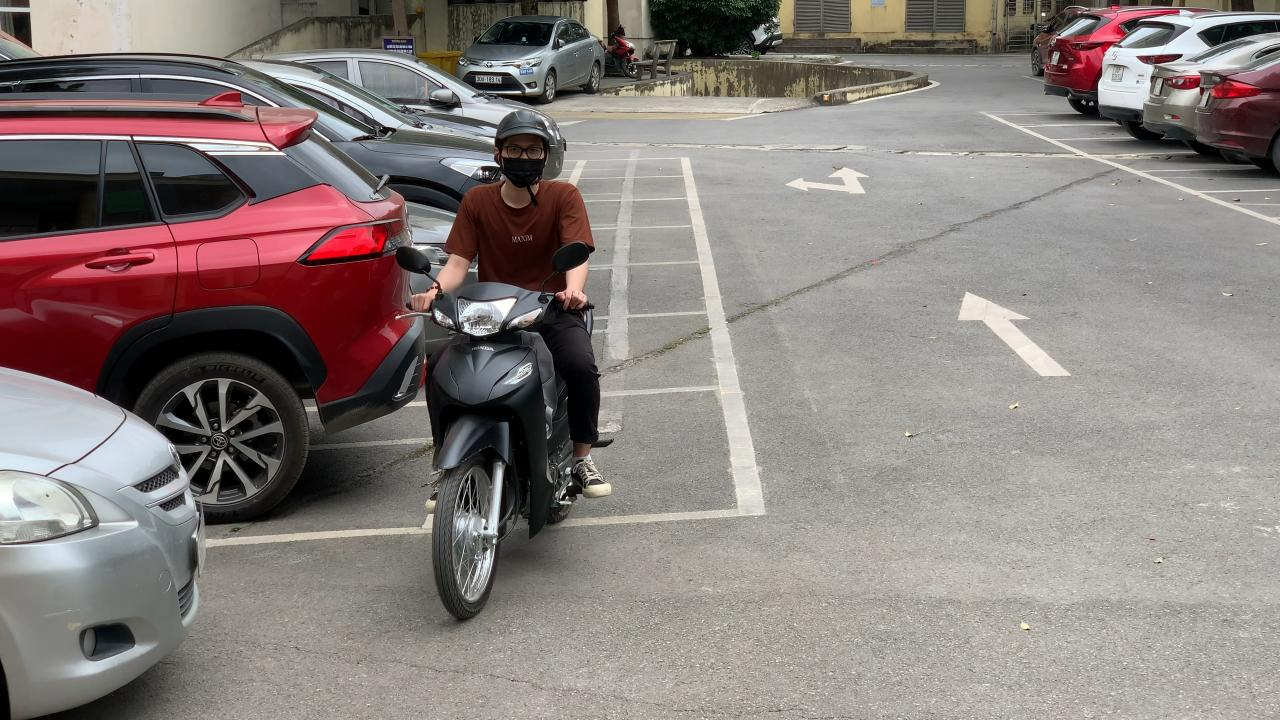helmet: (493, 109, 552, 144)
motorcyclist: (395, 103, 620, 621)
